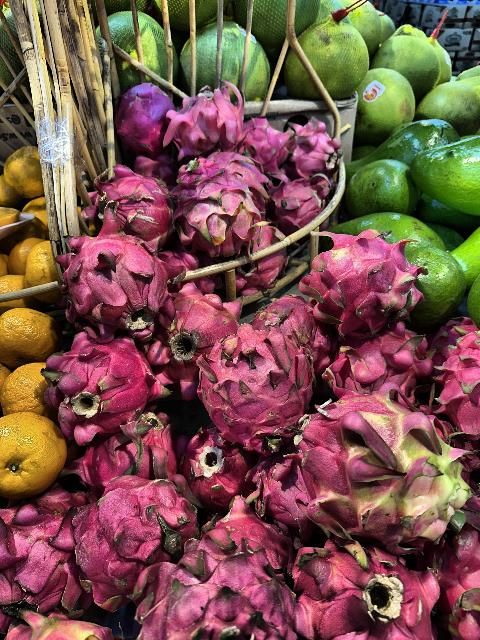buah-naga-belum-matang: (292, 399, 474, 559), (300, 230, 426, 336), (167, 158, 266, 262), (3, 598, 109, 640)
buah-naga-matang: (134, 530, 298, 640), (189, 316, 317, 448), (68, 481, 202, 601), (283, 542, 441, 640), (32, 329, 172, 433), (52, 235, 174, 331), (0, 488, 88, 606), (144, 284, 236, 386), (323, 324, 429, 408), (72, 422, 182, 488), (252, 287, 334, 371), (86, 169, 174, 247), (169, 88, 249, 154), (438, 324, 480, 446), (262, 172, 330, 226), (241, 112, 299, 174), (287, 117, 339, 177)
